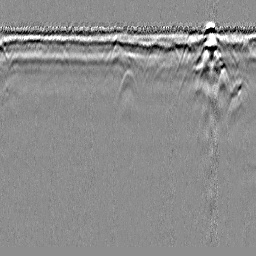cavity: (115, 66, 140, 107)
